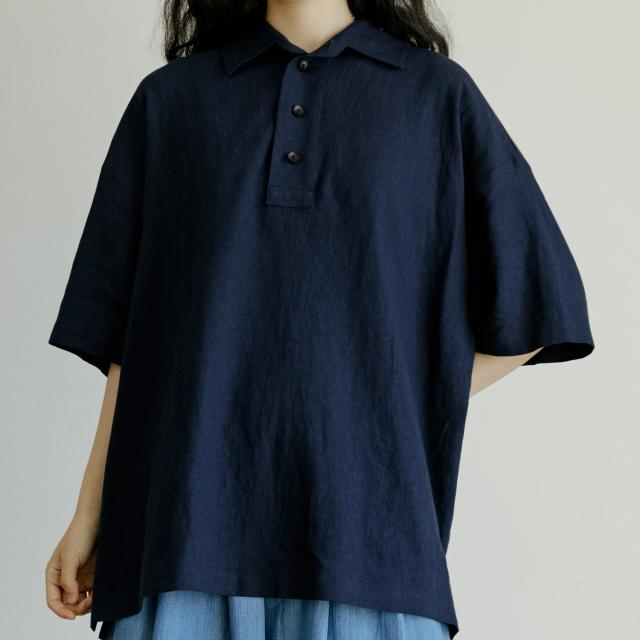Blouse_deep: (53, 23, 608, 607)
